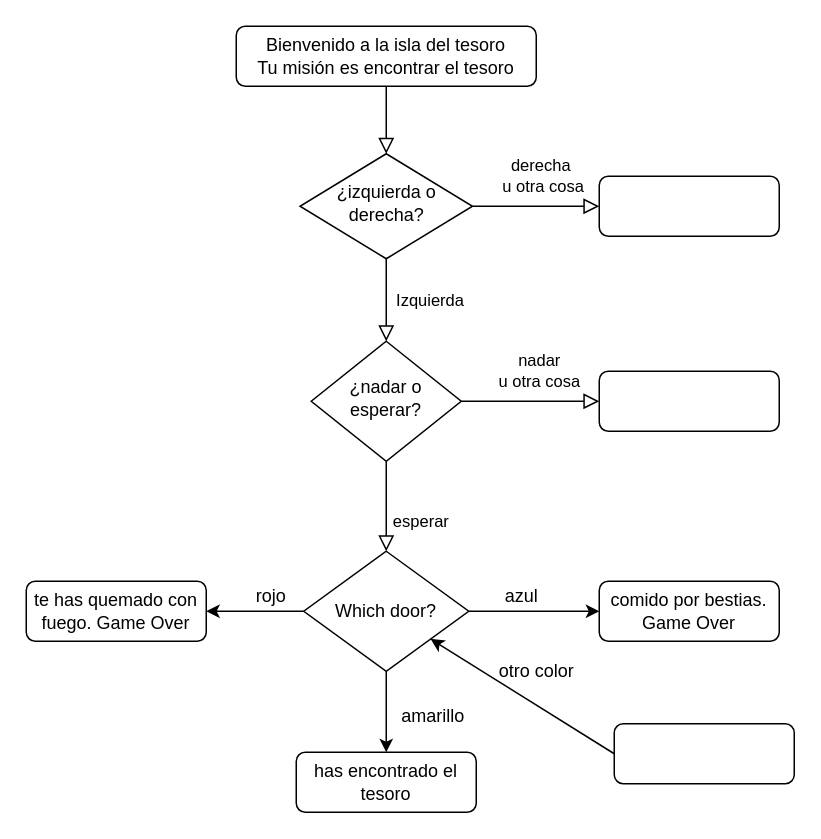
The diagram is 821 pixels wide and 839 high, and some of its shapes have lost their labels. Here are the shapes that lost their labels. From the top down, the box of each, then its label:
(598, 175, 779, 236): has caído en un agujero. Game Over
(598, 370, 779, 431): atacado por tiburones. Game Over
(613, 722, 794, 784): la puerta no existe. Game Over
